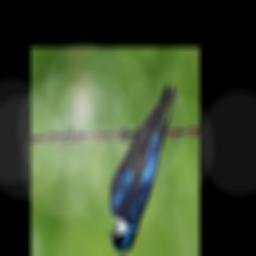Swallow: (108, 82, 178, 253)
